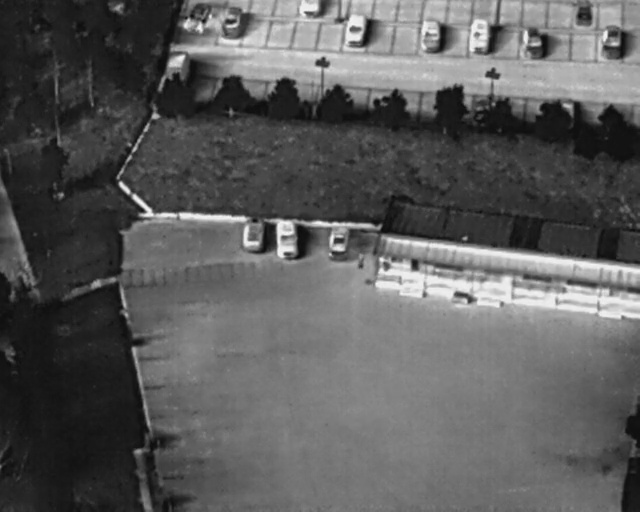Car: (326, 223, 353, 262), (219, 4, 244, 39), (187, 1, 212, 36), (468, 17, 491, 55), (345, 12, 369, 48), (277, 218, 297, 260), (167, 49, 191, 82), (602, 25, 624, 60), (522, 25, 544, 59), (243, 216, 263, 251), (422, 18, 441, 53), (297, 0, 323, 17), (576, 0, 592, 26)
